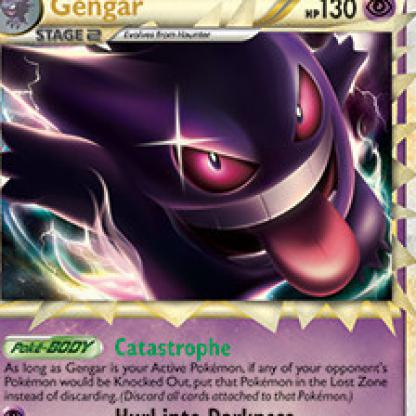Gengar: (10, 51, 415, 300)
